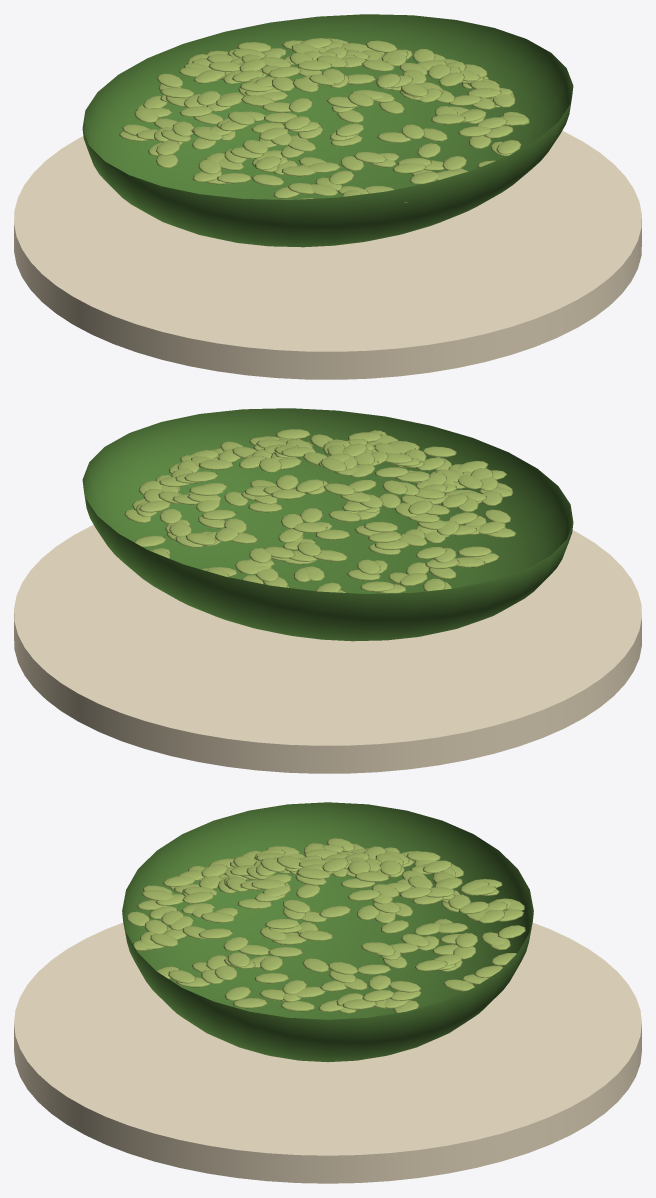
The model's file is tu-le-com-v1.glb.
The picture shows the model from 3 angles, top to bottom: view 1: azimuth 30°, elevation 25°; view 2: azimuth 150°, elevation 25°; view 3: azimuth 270°, elevation 25°; orthographic projection.
Parts seen in each view (by area): view 1: tu-le-com-concept; view 2: tu-le-com-concept; view 3: tu-le-com-concept.
Part boxes in pixels (x1,y1,x2,y2): tu-le-com-concept: (14, 14, 641, 379); tu-le-com-concept: (14, 408, 641, 773); tu-le-com-concept: (14, 802, 641, 1183).
Bounding box in the file's own units: 2.44 × 0.7852 × 2.44.
